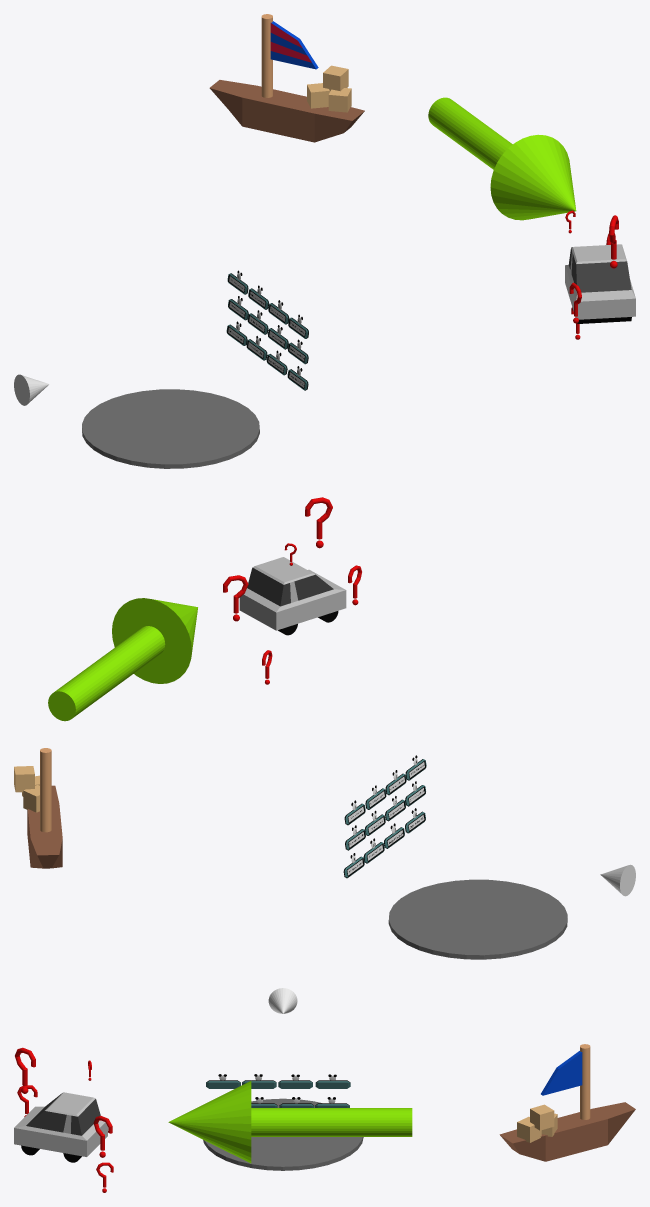
File: Gatex5.glb
3 renders of one model, top to bottom at view 1: azimuth 30°, elevation 25°; view 2: azimuth 150°, elevation 25°; view 3: azimuth 270°, elevation 25°, orthographic. The views are drawn at different scales.
Parts seen in each view (by area): view 1: Cylinder, Barco, Flecha, Auto, Signos, Usuario; view 2: Cylinder, Flecha, Auto, Barco, Signos, Usuario; view 3: Flecha, Barco, Auto, Cylinder, Signos, Usuario, Tarjeta1, Tarjeta2, Tarjeta4.
Boxes of the visible parts, x1=… form: Cylinder: x1=82, y1=389, x2=259, y2=468; Barco: x1=209, y1=14, x2=364, y2=142; Flecha: x1=428, y1=97, x2=576, y2=220; Auto: x1=565, y1=244, x2=635, y2=323; Signos: x1=565, y1=210, x2=618, y2=339; Usuario: x1=14, y1=374, x2=49, y2=405; Cylinder: x1=388, y1=879, x2=567, y2=959; Flecha: x1=48, y1=598, x2=197, y2=721; Auto: x1=239, y1=557, x2=346, y2=635; Barco: x1=14, y1=748, x2=62, y2=868; Signos: x1=223, y1=497, x2=361, y2=684; Usuario: x1=600, y1=864, x2=635, y2=896; Flecha: x1=168, y1=1081, x2=412, y2=1163; Barco: x1=499, y1=1044, x2=635, y2=1161; Auto: x1=14, y1=1092, x2=107, y2=1162; Cylinder: x1=203, y1=1098, x2=363, y2=1170; Signos: x1=15, y1=1047, x2=113, y2=1192; Usuario: x1=268, y1=988, x2=297, y2=1013; Tarjeta1: x1=315, y1=1074, x2=350, y2=1088; Tarjeta2: x1=278, y1=1074, x2=312, y2=1088; Tarjeta4: x1=206, y1=1074, x2=240, y2=1088.
Size of the model in its own units: 38.38 by 16.84 by 43.
